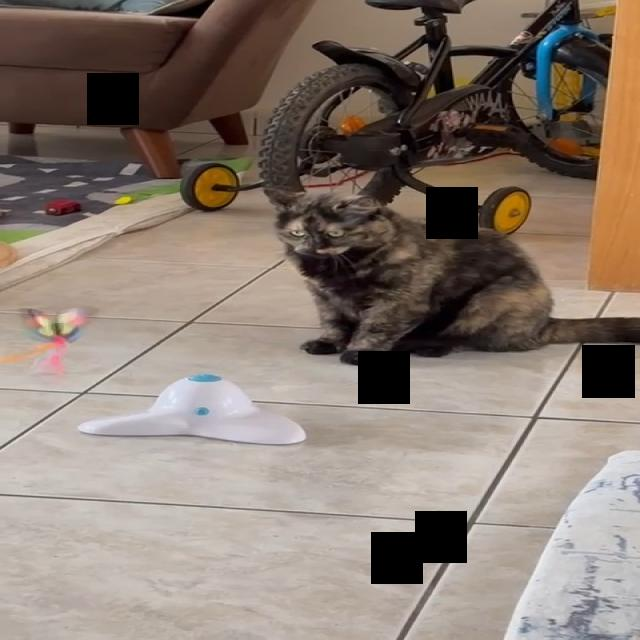authorized: (262, 187, 638, 365)
